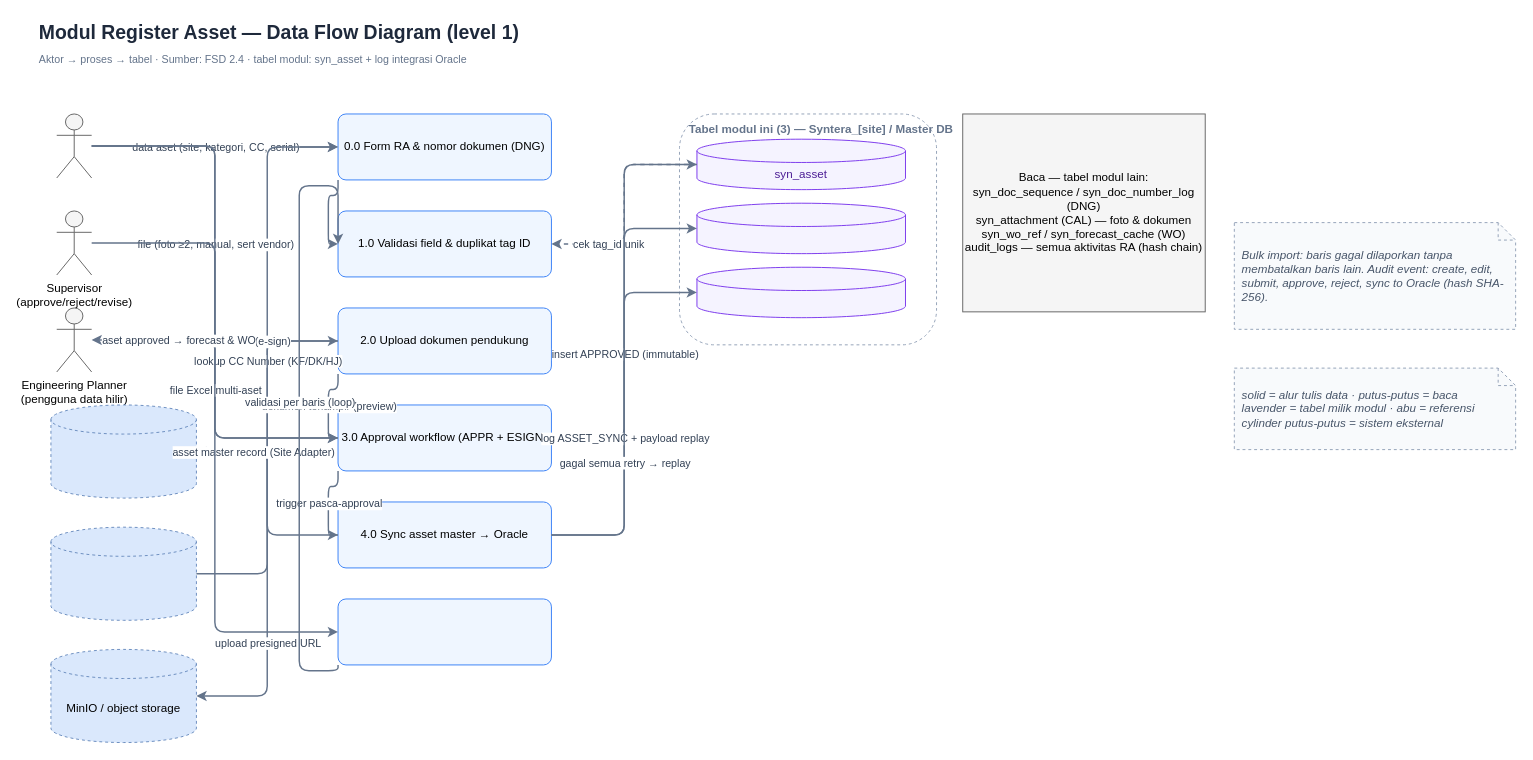
Image size: 1533x760. Some labels were removed from this diagram. Here are the shapes that lost their labels. From the top down, the centre of each, then its label:
At (74,145): "Teknisi / Insinyur (create only — RBAC)".
At (800,228): "syn_oracle_sync_log".
At (800,292): "syn_oracle_dlq".
At (123,451): "Oracle EBS EAM (system of record asset)".
At (123,573): "CC Online PLM (lookup CC Number)".
At (444,631): "5.0 Bulk import Excel".
